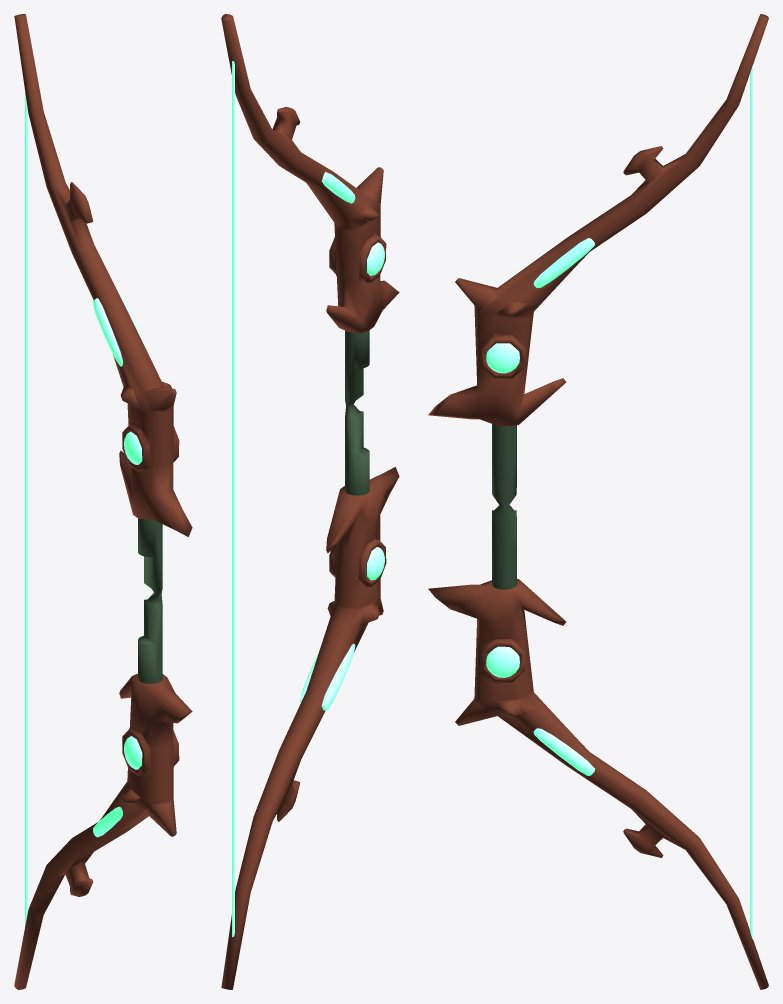
Rendered from MagicBow.fbx.
The picture shows the model from 3 angles, left to right: view 1: azimuth 30°, elevation 25°; view 2: azimuth 150°, elevation 25°; view 3: azimuth 270°, elevation 25°; orthographic projection.
Visible parts, largest first — view 1: MagicBowBody, Handle, String, Orbs, GlowTop, GlowBottom; view 2: MagicBowBody, Handle, String, Orbs, GlowBottom, GlowTop; view 3: MagicBowBody, Handle, String, Orbs, GlowTop, GlowBottom.
Part boxes in pixels (x1,y1,x2,y2): MagicBowBody: (14,14,192,989); Handle: (138,518,162,683); String: (25,91,27,926); Orbs: (124,431,142,769); GlowTop: (93,293,146,366); GlowBottom: (93,806,122,837); MagicBowBody: (221,14,399,989); Handle: (345,330,369,495); String: (232,61,234,936); Orbs: (367,242,384,580); GlowBottom: (300,643,355,710); GlowTop: (322,171,355,203); MagicBowBody: (428,14,768,989); Handle: (492,424,516,589); String: (750,65,752,939); Orbs: (486,343,519,677); GlowTop: (533,238,594,288); GlowBottom: (533,728,595,775).
Bounding box in the file's own units: 4.02 × 78.01 × 24.79.
